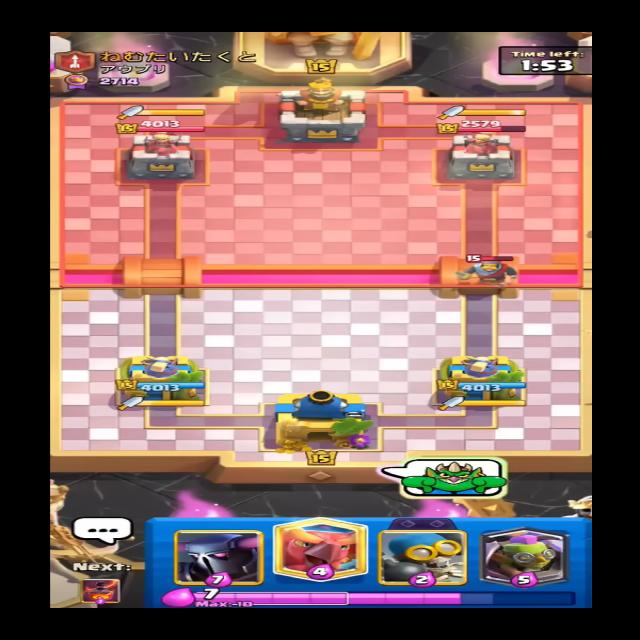Knight: (452, 253, 520, 292)
